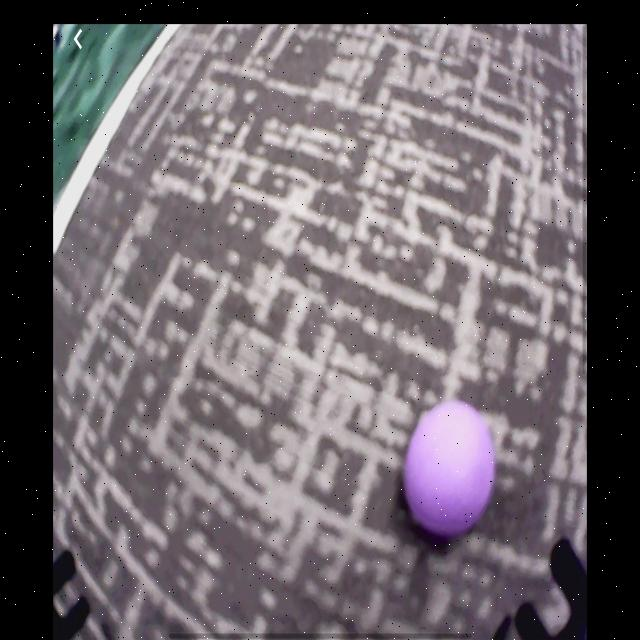ball: (403, 402, 494, 534)
